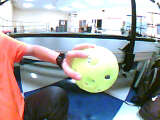Ball: (71, 46, 118, 94)
